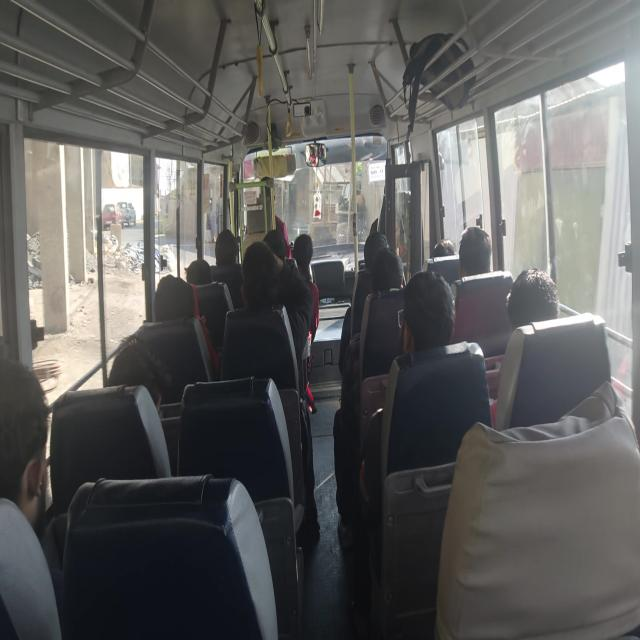person: (357, 269, 493, 547), (220, 240, 320, 542), (333, 244, 405, 547), (0, 356, 62, 638), (108, 274, 217, 416), (489, 266, 560, 426), (262, 228, 314, 396), (338, 230, 389, 376), (153, 274, 220, 377), (400, 270, 456, 354), (507, 266, 560, 332), (292, 232, 320, 340), (210, 228, 245, 310), (458, 225, 492, 278), (370, 246, 405, 292), (185, 258, 212, 286), (432, 238, 456, 256)
